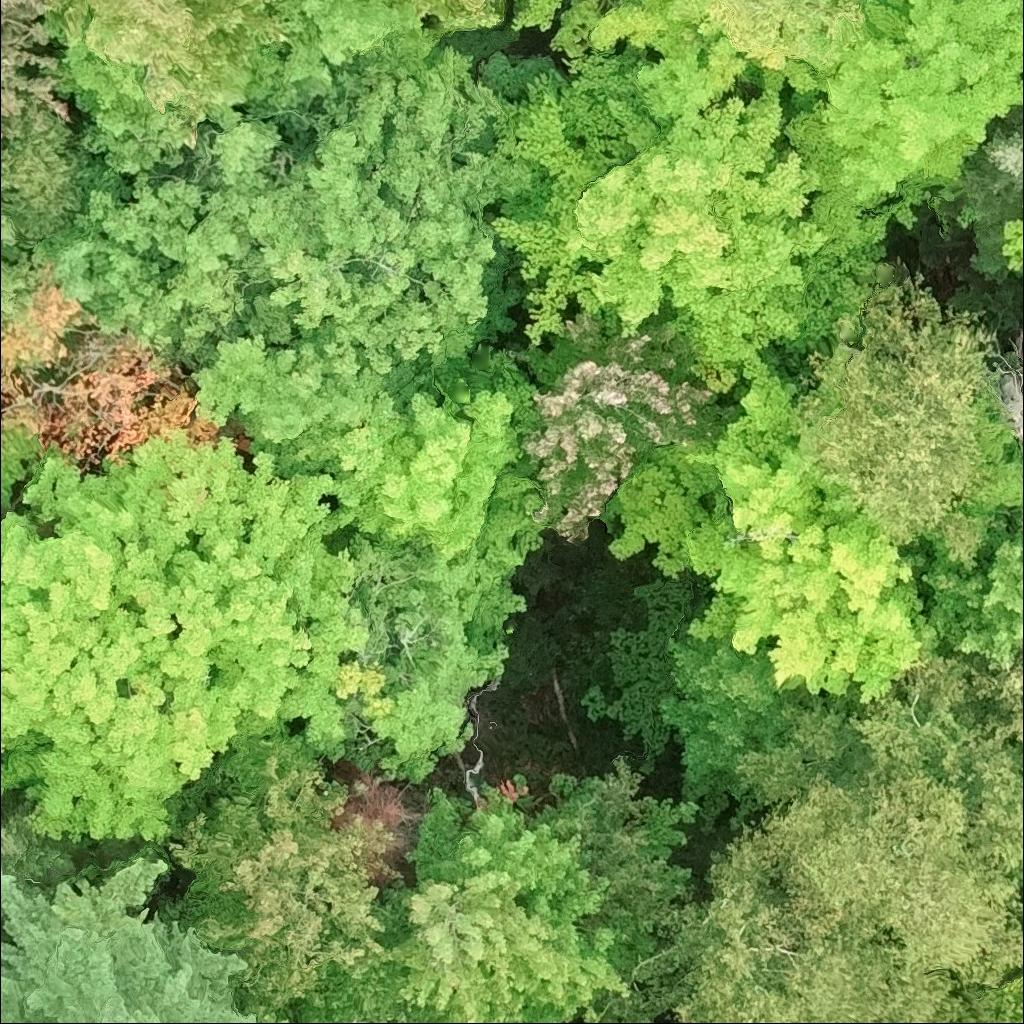crown: (0, 427, 372, 845), (486, 42, 887, 400), (194, 26, 535, 376), (680, 368, 940, 717), (324, 443, 558, 785), (754, 766, 1023, 1023), (157, 751, 403, 1023), (375, 782, 635, 1023), (782, 0, 1023, 246), (796, 274, 1009, 551), (32, 170, 301, 373), (651, 823, 914, 1023), (517, 310, 737, 547), (0, 857, 259, 1023), (42, 8, 283, 185), (852, 653, 1023, 887), (185, 322, 444, 476), (325, 386, 522, 558), (52, 0, 288, 121), (586, 0, 824, 100), (252, 0, 423, 114), (912, 508, 1023, 673), (0, 101, 120, 244), (599, 439, 717, 583), (727, 701, 870, 811), (947, 103, 1023, 281), (701, 0, 869, 72), (0, 0, 72, 139), (0, 787, 78, 892), (967, 652, 1023, 751), (0, 207, 46, 319), (557, 992, 663, 1023), (970, 967, 1023, 1023), (416, 0, 500, 34), (931, 988, 997, 1023), (998, 197, 1023, 270), (247, 1005, 298, 1023), (885, 1011, 915, 1023)
